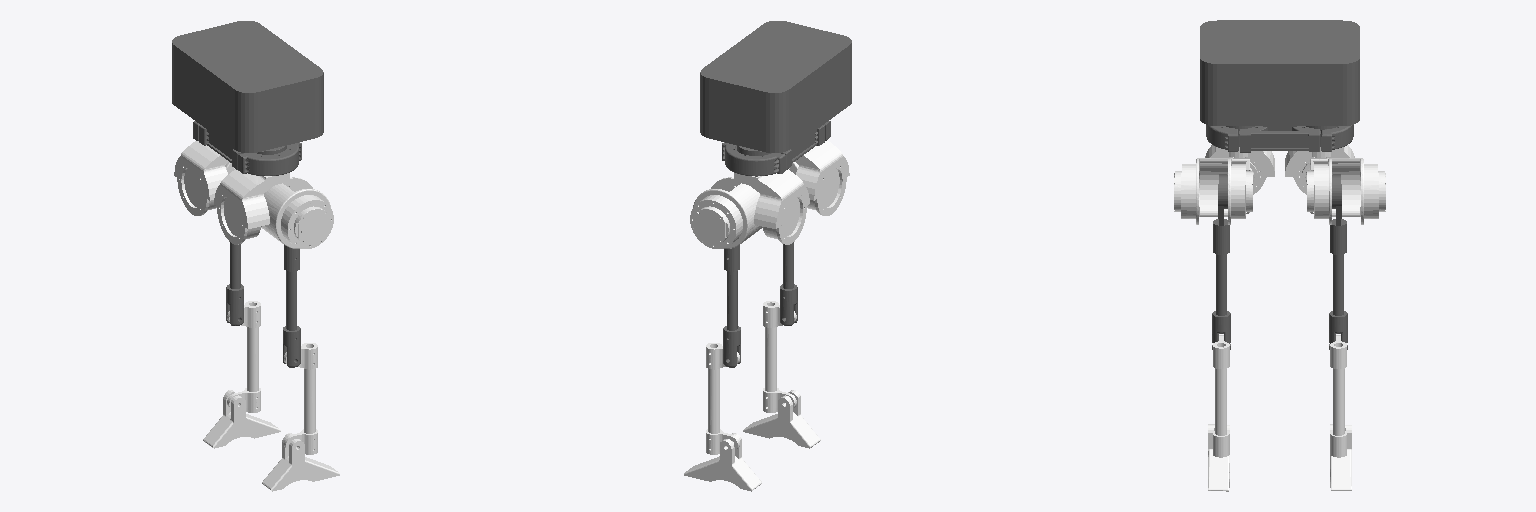
robot.urdf — YX1:
<?xml version="1.0" encoding="utf-8"?>
<!-- This URDF was automatically created by SolidWorks to URDF Exporter! Originally created by Stephen Brawner (brawner@gmail.com) 
     Commit Version: 1.6.0-4-g7f85cfe  Build Version: 1.6.7995.38578
     For more information, please see http://wiki.ros.org/sw_urdf_exporter -->
<robot
  name="YX1">
  <link
    name="base_link">
    <inertial>
      <origin
        xyz="3.5259E-05 -1.2162E-05 0.060842"
        rpy="0 0 0" />
      <mass
        value="3.089" />
      <inertia
        ixx="0.021922"
        ixy="-7.7287E-09"
        ixz="7.1607E-08"
        iyy="0.013081"
        iyz="-8.1167E-07"
        izz="0.026484" />
    </inertial>
    <visual>
      <origin
        xyz="0 0 0"
        rpy="0 0 0" />
      <geometry>
        <mesh
          filename="package://YX1/meshes/base_link.STL" />
      </geometry>
      <material
        name="">
        <color
          rgba="0.49804 0.49804 0.49804 1" />
      </material>
    </visual>
    <collision>
      <origin
        xyz="0 0 0"
        rpy="0 0 0" />
      <geometry>
        <mesh
          filename="package://YX1/meshes/base_link.STL" />
      </geometry>
    </collision>
  </link>
  <link
    name="left_yaw_Link">
    <inertial>
      <origin
        xyz="-0.035004 -0.00045659 0.037246"
        rpy="0 0 0" />
      <mass
        value="0.39556" />
      <inertia
        ixx="0.00062021"
        ixy="1.299E-06"
        ixz="-0.00016414"
        iyy="0.00052063"
        iyz="-2.1174E-06"
        izz="0.00057596" />
    </inertial>
    <visual>
      <origin
        xyz="0 0 0"
        rpy="0 0 0" />
      <geometry>
        <mesh
          filename="package://YX1/meshes/left_yaw_Link.STL" />
      </geometry>
      <material
        name="">
        <color
          rgba="1 1 1 1" />
      </material>
    </visual>
    <collision>
      <origin
        xyz="0 0 0"
        rpy="0 0 0" />
      <geometry>
        <mesh
          filename="package://YX1/meshes/left_yaw_Link.STL" />
      </geometry>
    </collision>
  </link>
  <joint
    name="left_yaw_joint"
    type="revolute">
    <origin
      xyz="0.0 0.071324 -0.1324"
      rpy="0 0 0" />
    <parent
      link="base_link" />
    <child
      link="left_yaw_Link" />
    <axis
      xyz="0 0 1" />
    <limit
      lower="-0.43"
      upper="0.43"
      effort="20"
      velocity="20.94" />
  </joint>
  <link
    name="left_roll_Link">
    <inertial>
      <origin
        xyz="-0.0087446 0.0412 2.6491E-06"
        rpy="0 0 0" />
      <mass
        value="0.61494" />
      <inertia
        ixx="0.00067942"
        ixy="-3.8385E-05"
        ixz="1.4235E-09"
        iyy="0.00091536"
        iyz="-1.7394E-08"
        izz="0.0006494" />
    </inertial>
    <visual>
      <origin
        xyz="0 0 0"
        rpy="0 0 0" />
      <geometry>
        <mesh
          filename="package://YX1/meshes/left_roll_Link.STL" />
      </geometry>
      <material
        name="">
        <color
          rgba="1 1 1 1" />
      </material>
    </visual>
    <collision>
      <origin
        xyz="0 0 0"
        rpy="0 0 0" />
      <geometry>
        <mesh
          filename="package://YX1/meshes/left_roll_Link.STL" />
      </geometry>
    </collision>
  </link>
  <joint
    name="left_roll_joint"
    type="revolute">
    <origin
      xyz="0.033302 0 0"
      rpy="0 0 0" />
    <parent
      link="left_yaw_Link" />
    <child
      link="left_roll_Link" />
    <axis
      xyz="1 0. 0" />
    <limit
      lower="-0.32"
      upper="0.32"
      effort="33.5"
      velocity="21" />
  </joint>
  <link
    name="left_pitch_Link">
    <inertial>
      <origin
        xyz="-0.00018038 -0.001663 -0.12173"
        rpy="0 0 0" />
      <mass
        value="0.19156" />
      <inertia
        ixx="0.00030938"
        ixy="-1.5891E-07"
        ixz="-1.1828E-07"
        iyy="0.00032158"
        iyz="8.7941E-06"
        izz="3.402E-05" />
    </inertial>
    <visual>
      <origin
        xyz="0 0 0"
        rpy="0 0 0" />
      <geometry>
        <mesh
          filename="package://YX1/meshes/left_pitch_Link.STL" />
      </geometry>
      <material
        name="">
        <color
          rgba="0.49804 0.49804 0.49804 1" />
      </material>
    </visual>
    <collision>
      <origin
        xyz="0 0 0"
        rpy="0 0 0" />
      <geometry>
        <mesh
          filename="package://YX1/meshes/left_pitch_Link.STL" />
      </geometry>
    </collision>
  </link>
  <joint
    name="left_pitch_joint"
    type="revolute">
    <origin
      xyz="0 0.030959 0"
      rpy="0 0 0" />
    <parent
      link="left_roll_Link" />
    <child
      link="left_pitch_Link" />
    <axis
      xyz="-0. 1.0 0" />
    <limit
      lower="-1.57"
      upper="1.57"
      effort="20"
      velocity="20.94" />
  </joint>
  <link
    name="left_knee_Link">
    <inertial>
      <origin
        xyz="0.03159 0.00041206 -0.089451"
        rpy="0 0 0" />
      <mass
        value="0.12591" />
      <inertia
        ixx="0.00025532"
        ixy="-1.93E-07"
        ixz="1.6131E-06"
        iyy="0.00027011"
        iyz="2.1035E-08"
        izz="2.7397E-05" />
    </inertial>
    <visual>
      <origin
        xyz="0 0 0"
        rpy="0 0 0" />
      <geometry>
        <mesh
          filename="package://YX1/meshes/left_knee_Link.STL" />
      </geometry>
      <material
        name="">
        <color
          rgba="1 1 1 1" />
      </material>
    </visual>
    <collision>
      <origin
        xyz="0 0 0"
        rpy="0 0 0" />
      <geometry>
        <mesh
          filename="package://YX1/meshes/left_knee_Link.STL" />
      </geometry>
    </collision>
  </link>
  <joint
    name="left_knee_joint"
    type="revolute">
    <origin
      xyz="-0.000 -0.000 -0.29322"
      rpy="0 0 0" />
    <parent
      link="left_pitch_Link" />
    <child
      link="left_knee_Link" />
    <axis
      xyz="-0. 1.0 0" />
    <limit
      lower="-0.26"
      upper="2.05"
      effort="20"
      velocity="20.94" />
  </joint>
  <link
    name="left_ankle_Link">
    <inertial>
      <origin
        xyz="0.011062 0.0041243 -0.049762"
        rpy="0 0 0" />
      <mass
        value="0.23135" />
      <inertia
        ixx="0.00011761"
        ixy="-2.5917E-06"
        ixz="2.8721E-05"
        iyy="0.00030797"
        iyz="6.9596E-07"
        izz="0.00024974" />
    </inertial>
    <visual>
      <origin
        xyz="0 0 0"
        rpy="0 0 0" />
      <geometry>
        <mesh
          filename="package://YX1/meshes/left_ankle_Link.STL" />
      </geometry>
      <material
        name="">
        <color
          rgba="1 1 1 1" />
      </material>
    </visual>
    <collision>
      <origin
        xyz="0 0 0"
        rpy="0 0 0" />
      <geometry>
        <mesh
          filename="package://YX1/meshes/left_ankle_Link.STL" />
      </geometry>
    </collision>
  </link>
  <joint
    name="left_ankle_joint"
    type="revolute">
    <origin
      xyz="0.000 0 -0.17"
      rpy="0 0 0" />
    <parent
      link="left_knee_Link" />
    <child
      link="left_ankle_Link" />
    <axis
      xyz="0. 1. 0" />
    <limit
      lower="-0.87"
      upper="0.52"
      effort="12"
      velocity="31" />
  </joint>
  <link
    name="right_yaw_Link">
    <inertial>
      <origin
        xyz="-0.035004 0.00045659 0.037246"
        rpy="0 0 0" />
      <mass
        value="0.39556" />
      <inertia
        ixx="0.00062021"
        ixy="-1.2991E-06"
        ixz="-0.00016414"
        iyy="0.00052063"
        iyz="2.1173E-06"
        izz="0.00057596" />
    </inertial>
    <visual>
      <origin
        xyz="0 0 0"
        rpy="0 0 0" />
      <geometry>
        <mesh
          filename="package://YX1/meshes/right_yaw_Link.STL" />
      </geometry>
      <material
        name="">
        <color
          rgba="1 1 1 1" />
      </material>
    </visual>
    <collision>
      <origin
        xyz="0 0 0"
        rpy="0 0 0" />
      <geometry>
        <mesh
          filename="package://YX1/meshes/right_yaw_Link.STL" />
      </geometry>
    </collision>
  </link>
  <joint
    name="right_yaw_joint"
    type="revolute">
    <origin
      xyz="0.000 -0.071324 -0.1324"
      rpy="0 0 0" />
    <parent
      link="base_link" />
    <child
      link="right_yaw_Link" />
    <axis
      xyz="0 0 1" />
    <limit
      lower="-0.43"
      upper="0.43"
      effort="20"
      velocity="20.94" />
  </joint>
  <link
    name="right_roll_Link">
    <inertial>
      <origin
        xyz="-0.0087446 -0.0412 2.4733E-06"
        rpy="0 0 0" />
      <mass
        value="0.61494" />
      <inertia
        ixx="0.00067942"
        ixy="3.8385E-05"
        ixz="-1.4025E-09"
        iyy="0.00091536"
        iyz="-1.7386E-08"
        izz="0.0006494" />
    </inertial>
    <visual>
      <origin
        xyz="0 0 0"
        rpy="0 0 0" />
      <geometry>
        <mesh
          filename="package://YX1/meshes/right_roll_Link.STL" />
      </geometry>
      <material
        name="">
        <color
          rgba="1 1 1 1" />
      </material>
    </visual>
    <collision>
      <origin
        xyz="0 0 0"
        rpy="0 0 0" />
      <geometry>
        <mesh
          filename="package://YX1/meshes/right_roll_Link.STL" />
      </geometry>
    </collision>
  </link>
  <joint
    name="right_roll_joint"
    type="revolute">
    <origin
      xyz="0.033302 0 0"
      rpy="0 0 0" />
    <parent
      link="right_yaw_Link" />
    <child
      link="right_roll_Link" />
    <axis
      xyz="1.0 -0. 0" />
    <limit
      lower="-0.32"
      upper="0.32"
      effort="33.5"
      velocity="21" />
  </joint>
  <link
    name="right_pitch_Link">
    <inertial>
      <origin
        xyz="-0.00018121 0.0016629 -0.12173"
        rpy="0 0 0" />
      <mass
        value="0.19156" />
      <inertia
        ixx="0.00030938"
        ixy="1.5923E-07"
        ixz="-1.1118E-07"
        iyy="0.00032158"
        iyz="-8.7946E-06"
        izz="3.402E-05" />
    </inertial>
    <visual>
      <origin
        xyz="0 0 0"
        rpy="0 0 0" />
      <geometry>
        <mesh
          filename="package://YX1/meshes/right_pitch_Link.STL" />
      </geometry>
      <material
        name="">
        <color
          rgba="0.49804 0.49804 0.49804 1" />
      </material>
    </visual>
    <collision>
      <origin
        xyz="0 0 0"
        rpy="0 0 0" />
      <geometry>
        <mesh
          filename="package://YX1/meshes/right_pitch_Link.STL" />
      </geometry>
    </collision>
  </link>
  <joint
    name="right_pitch_joint"
    type="revolute">
    <origin
      xyz="0 -0.030959 0"
      rpy="0 0 0" />
    <parent
      link="right_roll_Link" />
    <child
      link="right_pitch_Link" />
    <axis
      xyz="0. 1.0 0" />
    <limit
      lower="-1.57"
      upper="1.57"
      effort="20"
      velocity="20.94" />
  </joint>
  <link
    name="right_knee_Link">
    <inertial>
      <origin
        xyz="0.03159 -0.00041205 -0.089451"
        rpy="0 0 0" />
      <mass
        value="0.12591" />
      <inertia
        ixx="0.00025532"
        ixy="1.9297E-07"
        ixz="1.6131E-06"
        iyy="0.00027011"
        iyz="-2.1031E-08"
        izz="2.7397E-05" />
    </inertial>
    <visual>
      <origin
        xyz="0 0 0"
        rpy="0 0 0" />
      <geometry>
        <mesh
          filename="package://YX1/meshes/right_knee_Link.STL" />
      </geometry>
      <material
        name="">
        <color
          rgba="1 1 1 1" />
      </material>
    </visual>
    <collision>
      <origin
        xyz="0 0 0"
        rpy="0 0 0" />
      <geometry>
        <mesh
          filename="package://YX1/meshes/right_knee_Link.STL" />
      </geometry>
    </collision>
  </link>
  <joint
    name="right_knee_joint"
    type="revolute">
    <origin
      xyz="-0.000 0. -0.29322"
      rpy="0 0 0" />
    <parent
      link="right_pitch_Link" />
    <child
      link="right_knee_Link" />
    <axis
      xyz="0. 1.0 0" />
    <limit
      lower="-0.26"
      upper="2.05"
      effort="20"
      velocity="20.94" />
  </joint>
  <link
    name="right_ankle_Link">
    <inertial>
      <origin
        xyz="0.011232 -0.0041708 -0.049762"
        rpy="0 0 0" />
      <mass
        value="0.23135" />
      <inertia
        ixx="0.0001176"
        ixy="2.3756E-06"
        ixz="2.8729E-05"
        iyy="0.00030798"
        iyz="-5.3424E-08"
        izz="0.00024974" />
    </inertial>
    <visual>
      <origin
        xyz="0 0 0"
        rpy="0 0 0" />
      <geometry>
        <mesh
          filename="package://YX1/meshes/right_ankle_Link.STL" />
      </geometry>
      <material
        name="">
        <color
          rgba="1 1 1 1" />
      </material>
    </visual>
    <collision>
      <origin
        xyz="0 0 0"
        rpy="0 0 0" />
      <geometry>
        <mesh
          filename="package://YX1/meshes/right_ankle_Link.STL" />
      </geometry>
    </collision>
  </link>
  <joint
    name="right_ankle_joint"
    type="revolute">
    <origin
      xyz="0 0 -0.17"
      rpy="0 0 0" />
    <parent
      link="right_knee_Link" />
    <child
      link="right_ankle_Link" />
    <axis
      xyz="0. 1.0 0" />
    <limit
      lower="-0.87"
      upper="0.52"
      effort="12"
      velocity="31" />
  </joint>
</robot>

--- Facts derived from the render (not from the file) ---
Views: 3 orthographic renders of the robot side by side, from view 1: azimuth 30°, elevation 25°; view 2: azimuth 150°, elevation 25°; view 3: azimuth 270°, elevation 25°.
Robot: YX1 — 11 links, 10 joints (10 revolute); root link base_link; default pose: all joints at 0.
Links seen in each view (by area): view 1: base_link, right_roll_Link, right_yaw_Link, left_yaw_Link, left_ankle_Link, right_ankle_Link, right_knee_Link, left_knee_Link, right_pitch_Link, left_pitch_Link; view 2: base_link, left_roll_Link, left_yaw_Link, right_yaw_Link, right_ankle_Link, left_ankle_Link, left_knee_Link, right_knee_Link, left_pitch_Link, right_pitch_Link; view 3: base_link, left_roll_Link, right_roll_Link, left_pitch_Link, right_pitch_Link, left_knee_Link, right_knee_Link, left_yaw_Link, right_yaw_Link, right_ankle_Link, left_ankle_Link.
Link boxes in pixels (box(x1,y1,x2,y2)): base_link: box(172, 21, 323, 175); right_roll_Link: box(261, 177, 333, 248); right_yaw_Link: box(214, 169, 289, 244); left_yaw_Link: box(174, 141, 228, 215); left_ankle_Link: box(203, 390, 280, 448); right_ankle_Link: box(262, 433, 339, 491); right_knee_Link: box(284, 343, 317, 454); left_knee_Link: box(227, 301, 260, 412); right_pitch_Link: box(283, 245, 300, 367); left_pitch_Link: box(226, 242, 243, 325); base_link: box(700, 21, 851, 176); left_roll_Link: box(690, 177, 762, 248); left_yaw_Link: box(734, 169, 809, 244); right_yaw_Link: box(795, 140, 849, 215); right_ankle_Link: box(743, 390, 820, 448); left_ankle_Link: box(684, 433, 761, 491); left_knee_Link: box(706, 343, 739, 454); right_knee_Link: box(763, 301, 796, 412); left_pitch_Link: box(723, 245, 740, 367); right_pitch_Link: box(780, 242, 797, 325); base_link: box(1200, 20, 1359, 152); left_roll_Link: box(1307, 158, 1385, 224); right_roll_Link: box(1174, 158, 1252, 224); left_pitch_Link: box(1329, 174, 1347, 349); right_pitch_Link: box(1212, 174, 1230, 349); left_knee_Link: box(1330, 335, 1346, 457); right_knee_Link: box(1213, 335, 1229, 457); left_yaw_Link: box(1285, 145, 1354, 194); right_yaw_Link: box(1205, 145, 1274, 194); right_ankle_Link: box(1208, 424, 1229, 491); left_ankle_Link: box(1330, 424, 1351, 490).
Bounding box of the posed robot: 0.2103 × 0.3694 × 0.8106 m (x, y, z).
11 mesh visuals loaded from 11 distinct referenced files (11 binary STL).
